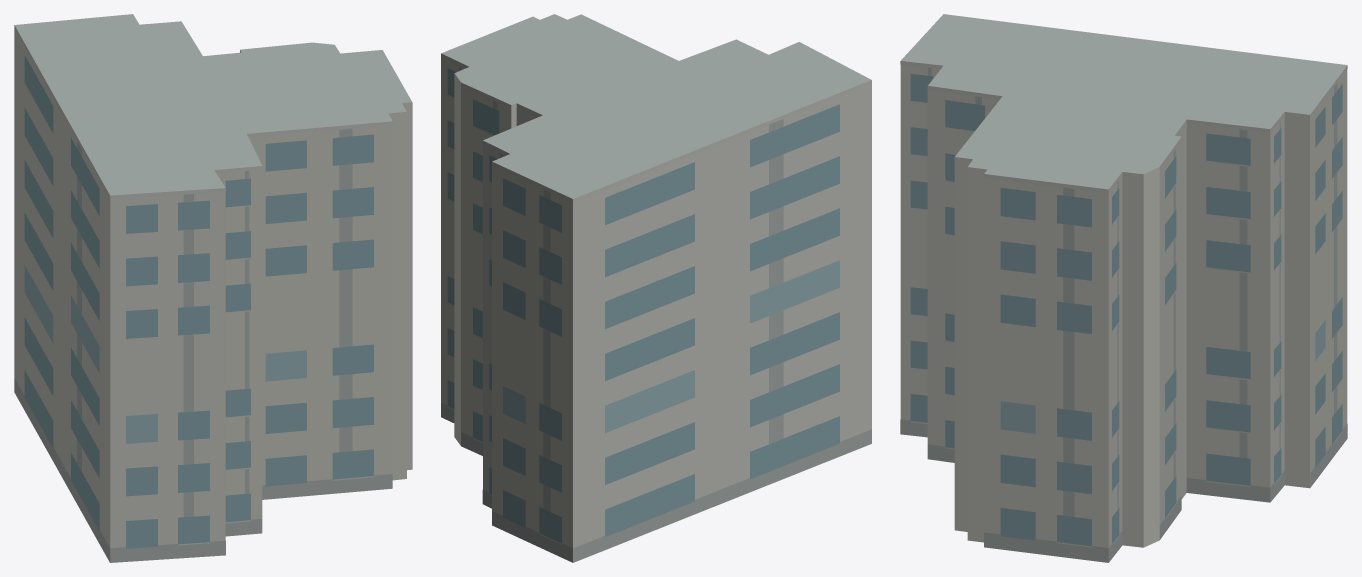
File: survey-upis-32816020.glb
The picture shows the model from 3 angles, left to right: view 1: azimuth 30°, elevation 25°; view 2: azimuth 150°, elevation 25°; view 3: azimuth 270°, elevation 25°; orthographic projection. The views are drawn at different scales.
Parts seen in each view (by area): view 1: survey-upis-32816020.tmp; view 2: survey-upis-32816020.tmp; view 3: survey-upis-32816020.tmp.
Boxes of the visible parts, box(x1,y1,x2,y2) form: survey-upis-32816020.tmp: box(14, 14, 412, 562); survey-upis-32816020.tmp: box(441, 14, 871, 562); survey-upis-32816020.tmp: box(900, 14, 1347, 562).
Size of the model in its own units: 23.84 by 23.65 by 25.67.
